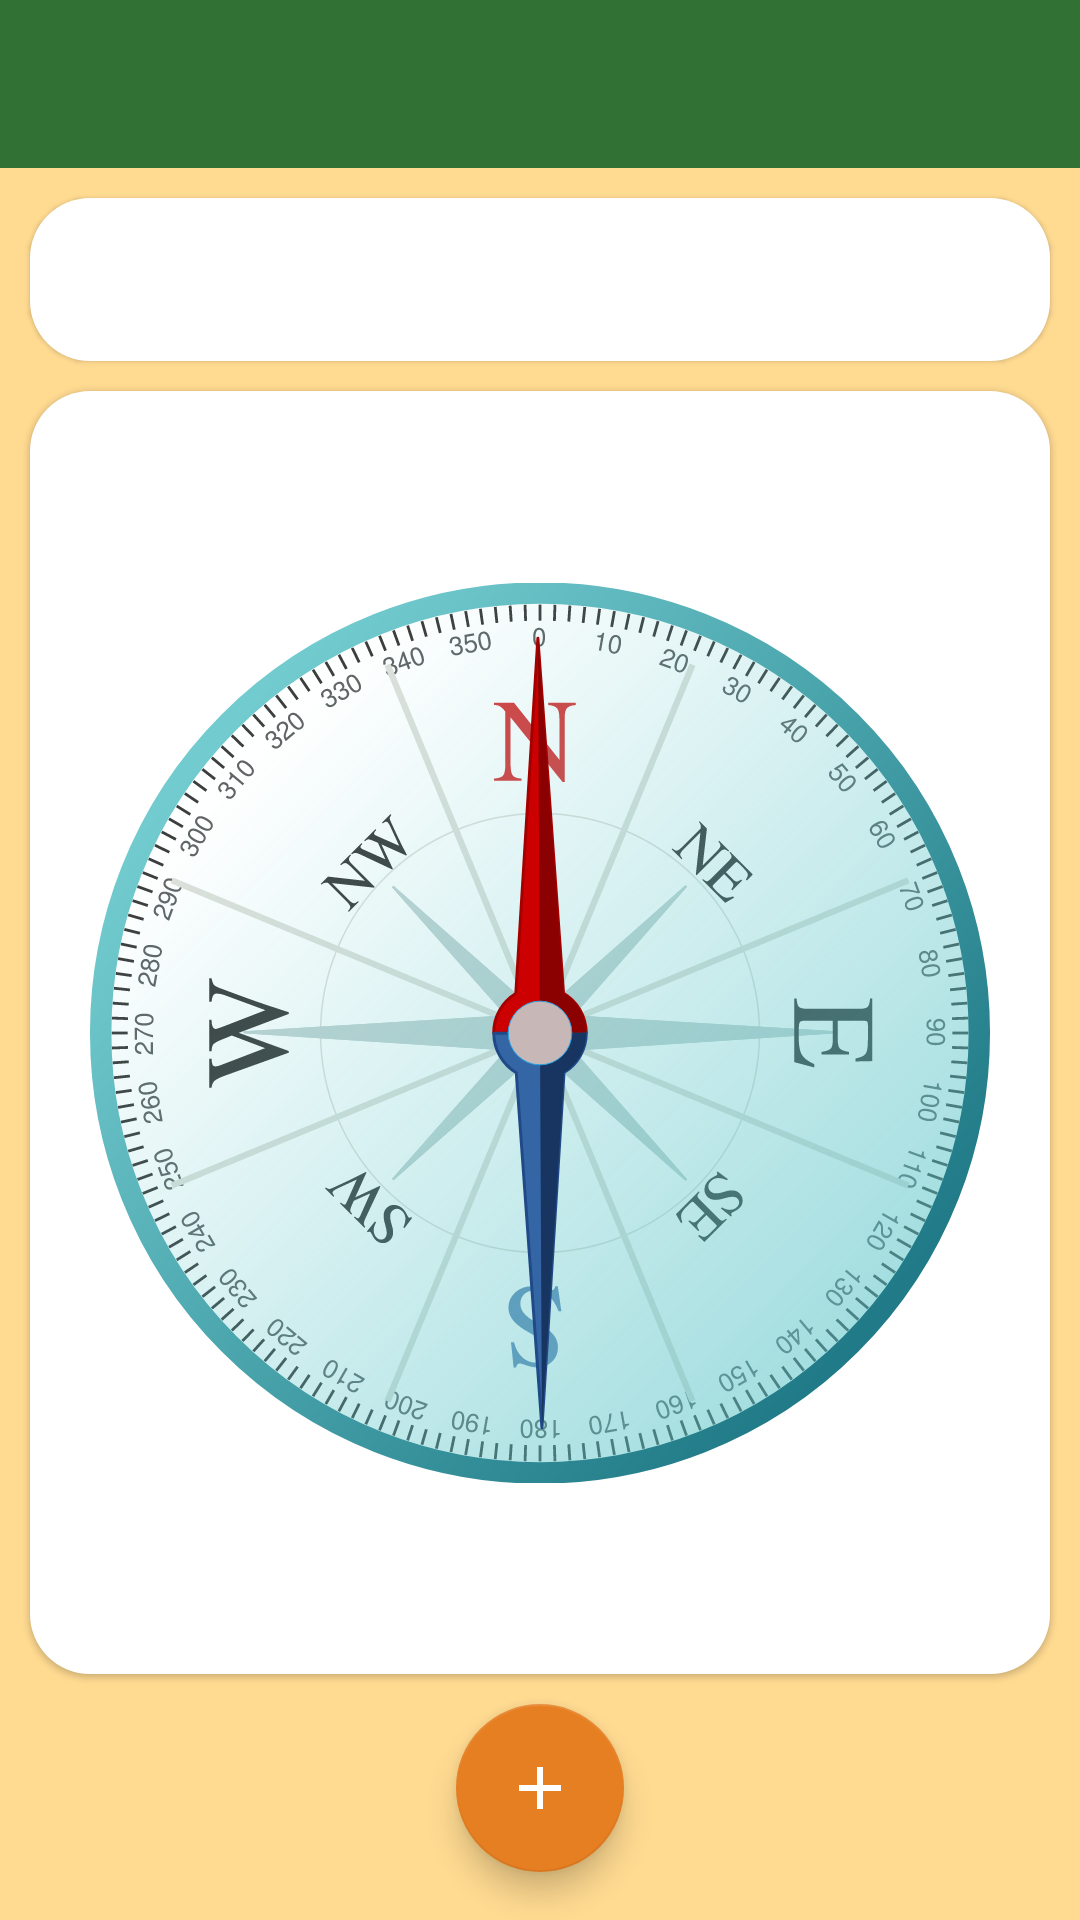

Where icons sit on this 1080px×1920px app screen, as (x1,y1,x2,y2):
add: (456,1704,624,1872)
